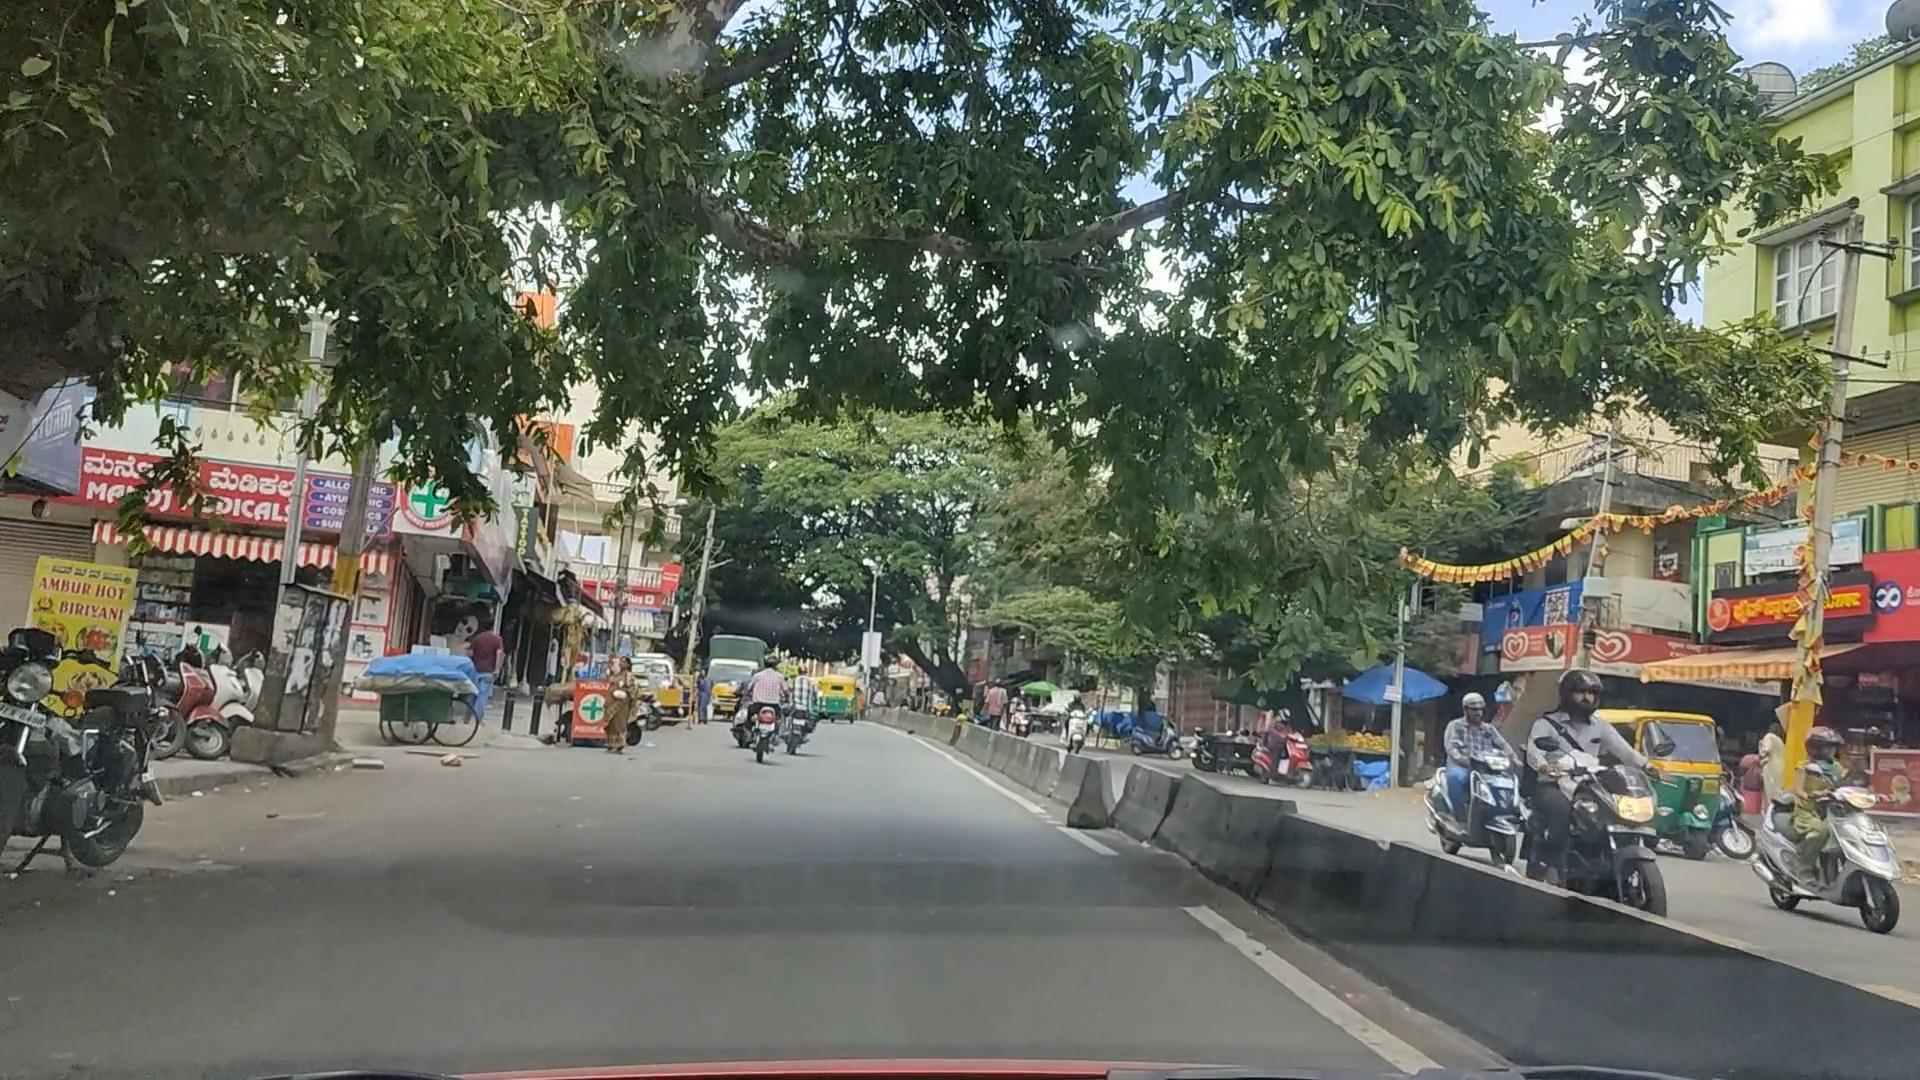LMV: (0, 618, 160, 864)
RoadDamages: (164, 831, 225, 901)
